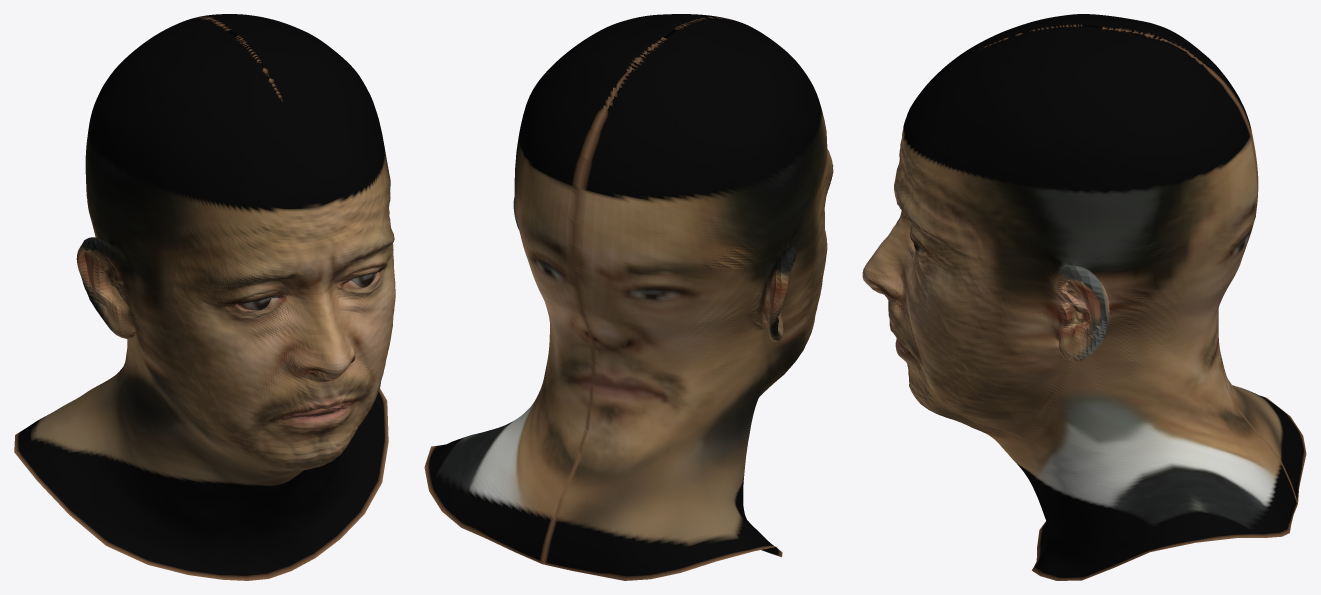
Rendered from mesh_coarse_detail.obj.
3 views of the same model, side by side, from view 1: azimuth 30°, elevation 25°; view 2: azimuth 150°, elevation 25°; view 3: azimuth 270°, elevation 25° (orthographic).
Bounding box in the file's own units: 0.2195 × 0.3263 × 0.2472.
